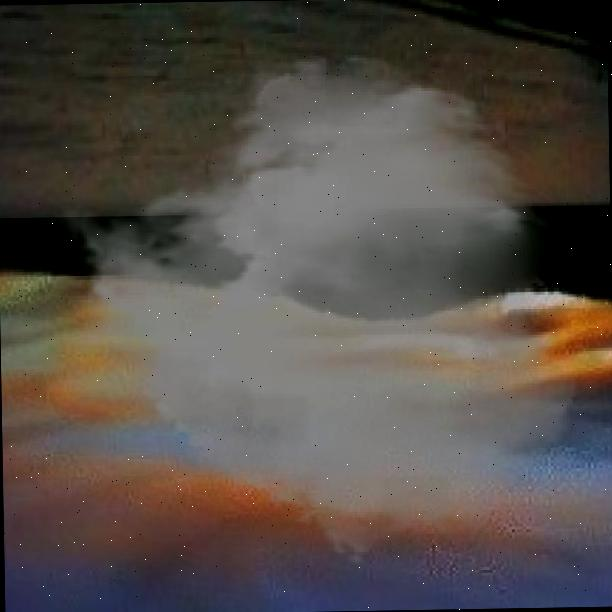smoke: (50, 45, 584, 571)
